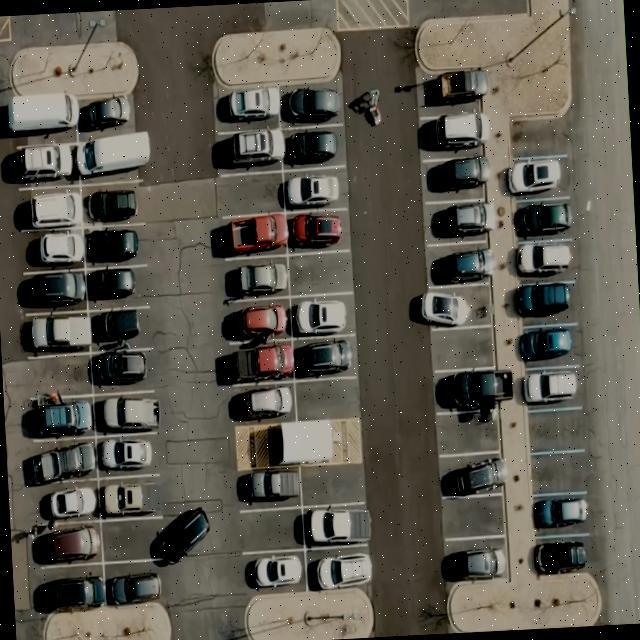space-empty: (101, 514, 171, 563), (436, 407, 503, 457), (23, 353, 94, 400), (429, 323, 495, 372), (237, 506, 304, 553), (441, 494, 506, 542), (286, 250, 352, 297), (299, 459, 364, 506), (294, 376, 360, 422), (216, 172, 284, 216), (511, 111, 571, 159), (524, 409, 587, 454), (528, 448, 588, 494)
space-occupied: (5, 132, 80, 192), (73, 125, 150, 183), (220, 294, 292, 348), (420, 282, 496, 332), (227, 375, 298, 428), (8, 92, 80, 144), (36, 564, 107, 616), (21, 306, 91, 358), (510, 233, 578, 286), (513, 318, 583, 369), (434, 364, 508, 412), (418, 108, 492, 156), (26, 389, 94, 441), (218, 210, 288, 260), (92, 390, 164, 438), (303, 500, 369, 552), (98, 472, 168, 520), (79, 178, 149, 226), (422, 154, 492, 202), (33, 476, 100, 526), (32, 521, 104, 567), (518, 362, 584, 412), (506, 152, 574, 200), (424, 198, 492, 246), (27, 434, 97, 480), (238, 546, 306, 593), (442, 537, 510, 584), (293, 332, 357, 381), (216, 128, 284, 174), (214, 85, 280, 132), (91, 344, 153, 394), (282, 166, 345, 215), (280, 82, 344, 130), (304, 547, 372, 592), (428, 243, 493, 290), (512, 194, 575, 242), (222, 341, 294, 383), (94, 430, 156, 478), (440, 452, 502, 500), (236, 464, 302, 509), (22, 226, 85, 273), (83, 224, 150, 268), (290, 291, 354, 337), (14, 187, 82, 229), (105, 561, 163, 610), (222, 255, 288, 298), (531, 490, 591, 537), (86, 265, 150, 309), (283, 125, 345, 170), (89, 306, 151, 351), (287, 210, 353, 252), (516, 283, 582, 325), (414, 72, 482, 112), (77, 96, 137, 140), (21, 269, 88, 308), (533, 534, 593, 576)
